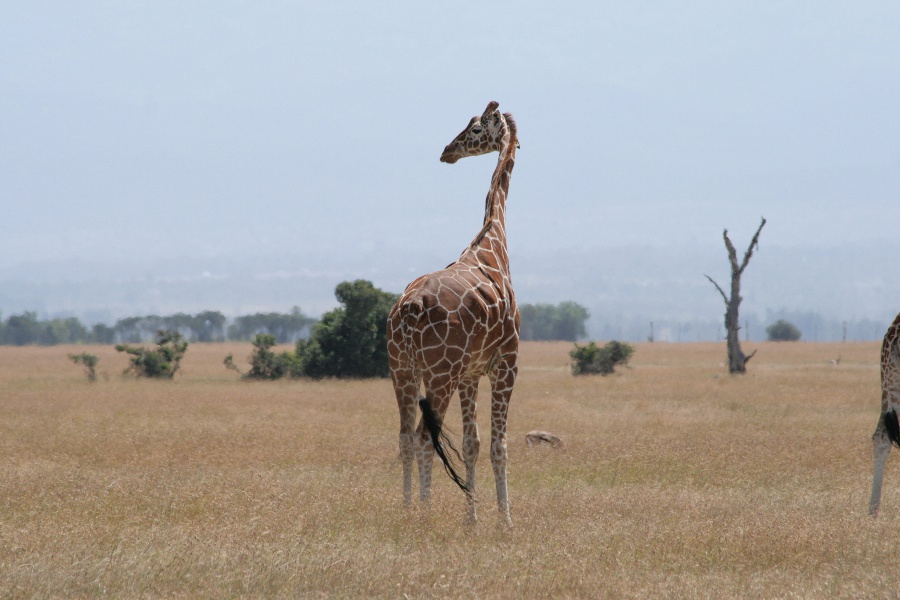giraffe: (374, 92, 533, 542)
